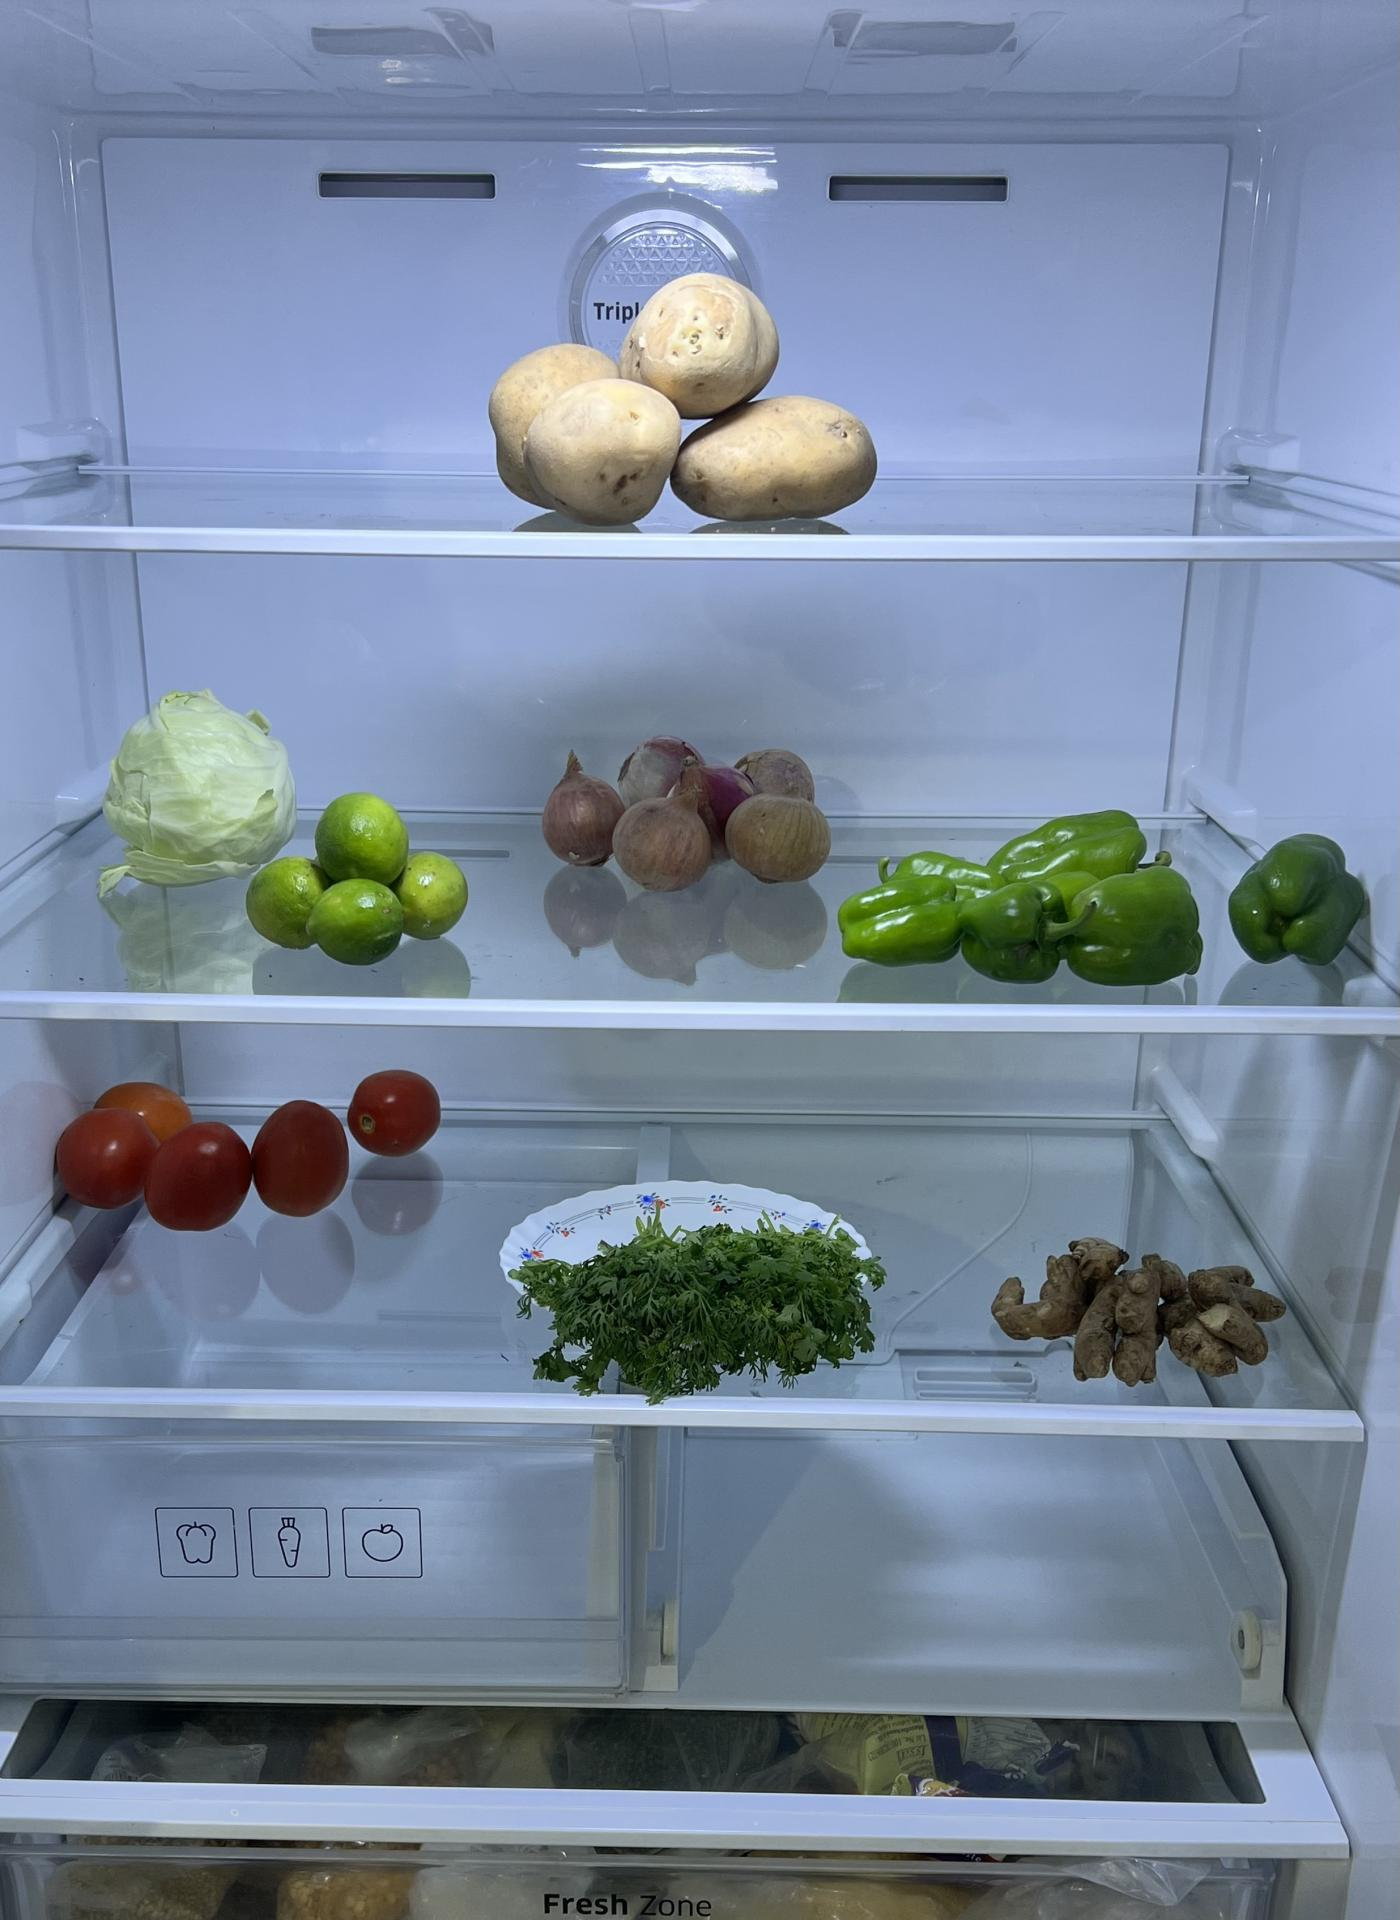cabbage: (75, 671, 294, 878)
capsicum: (811, 806, 1382, 990)
coriander: (507, 1197, 905, 1388)
ginger: (987, 1222, 1294, 1385)
lemon: (250, 789, 470, 967)
onion: (544, 732, 841, 891)
potato: (465, 258, 892, 519)
tomato: (40, 1060, 449, 1228)
